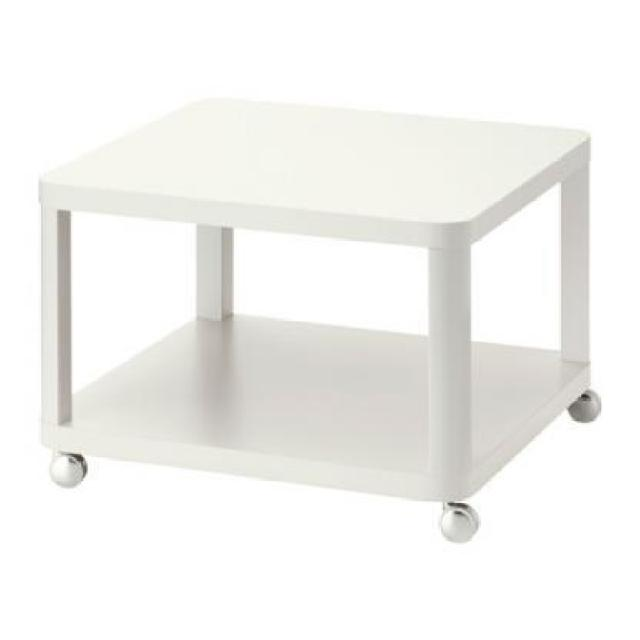tables: (37, 94, 601, 541)
